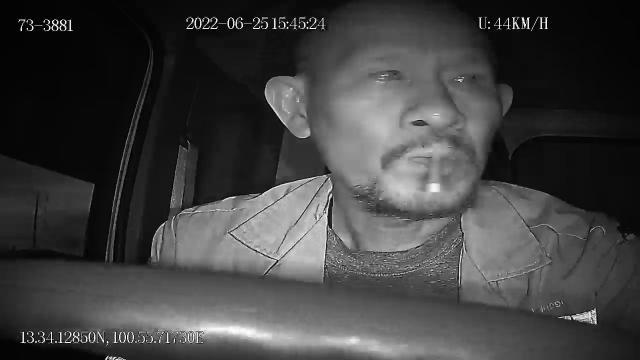SafeDriving: (356, 56, 415, 88), (438, 60, 494, 93)
Smoking: (426, 156, 442, 194)
